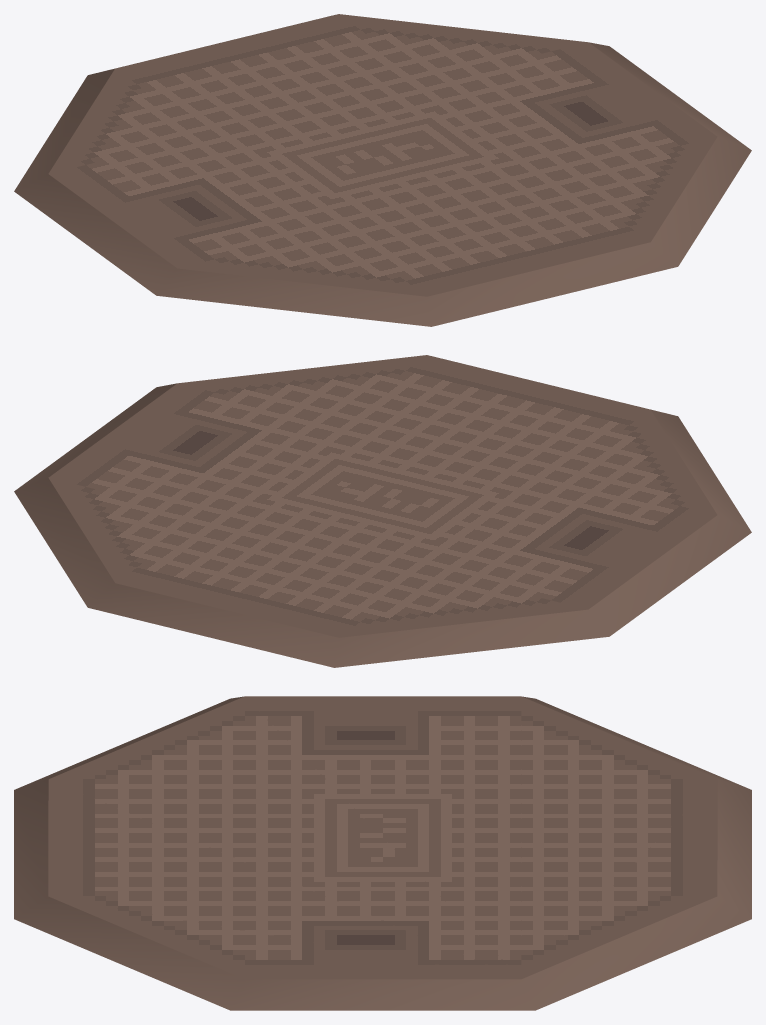
Rendered from 031d_Manhole_Cover.glb.
The picture shows the model from 3 angles, top to bottom: view 1: azimuth 30°, elevation 25°; view 2: azimuth 150°, elevation 25°; view 3: azimuth 270°, elevation 25°; orthographic projection. The views are drawn at different scales.
Parts seen in each view (by area): view 1: part_0; view 2: part_0; view 3: part_0.
Boxes of the visible parts, bbox=[...] form: part_0: bbox=[14, 14, 751, 326]; part_0: bbox=[14, 355, 751, 667]; part_0: bbox=[14, 696, 751, 1010].
Size of the model in its own units: 0.6 by 0.015 by 0.6.
1 material, 1 textured.
